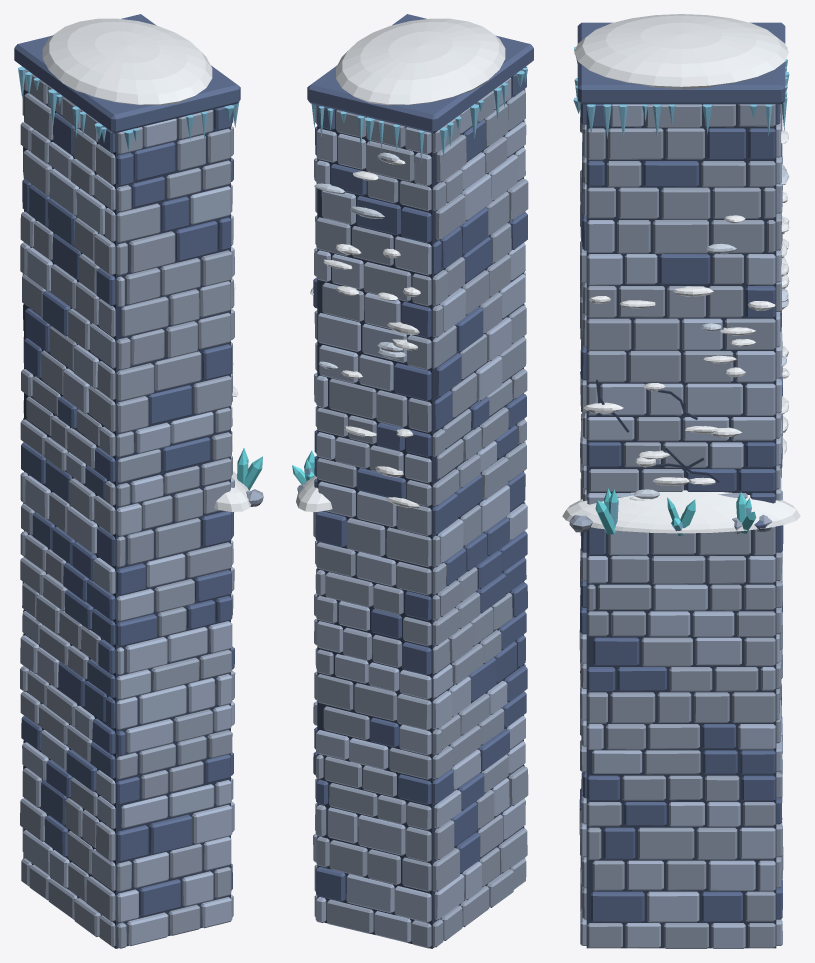
The model's file is BossWall_FrostPeaks.fbx.
The picture shows the model from 3 angles, left to right: view 1: azimuth 30°, elevation 25°; view 2: azimuth 150°, elevation 25°; view 3: azimuth 270°, elevation 25°; orthographic projection. The views are drawn at different scales.
Visible parts, largest first — view 1: BossWall_FrostPeaks; view 2: BossWall_FrostPeaks; view 3: BossWall_FrostPeaks.
Part boxes in pixels (x1,y1,x2,y2): BossWall_FrostPeaks: [14, 14, 263, 948]; BossWall_FrostPeaks: [292, 14, 533, 948]; BossWall_FrostPeaks: [562, 14, 800, 948].
Bounding box in the file's own units: 411 × 2047 × 500.
